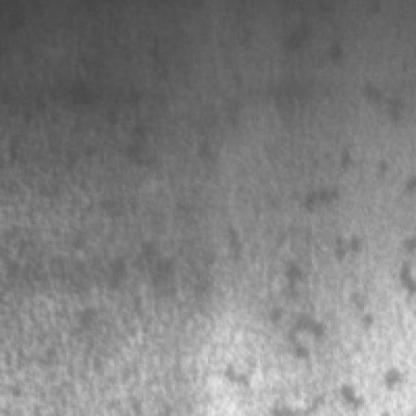pitted_surface: (4, 31, 302, 414)
